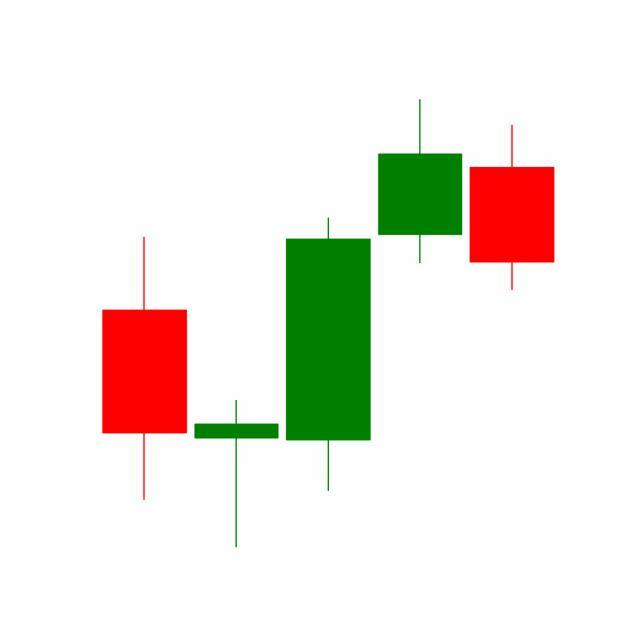Upside-Downside Gap Three Methods: (280, 99, 555, 496)
